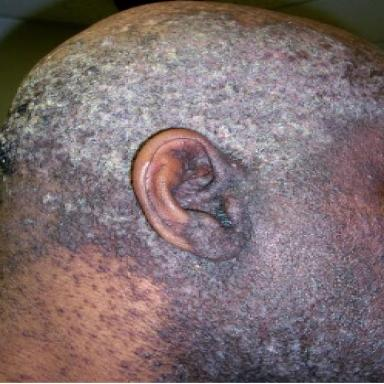Darier_s-Disease: (0, 9, 384, 383)
